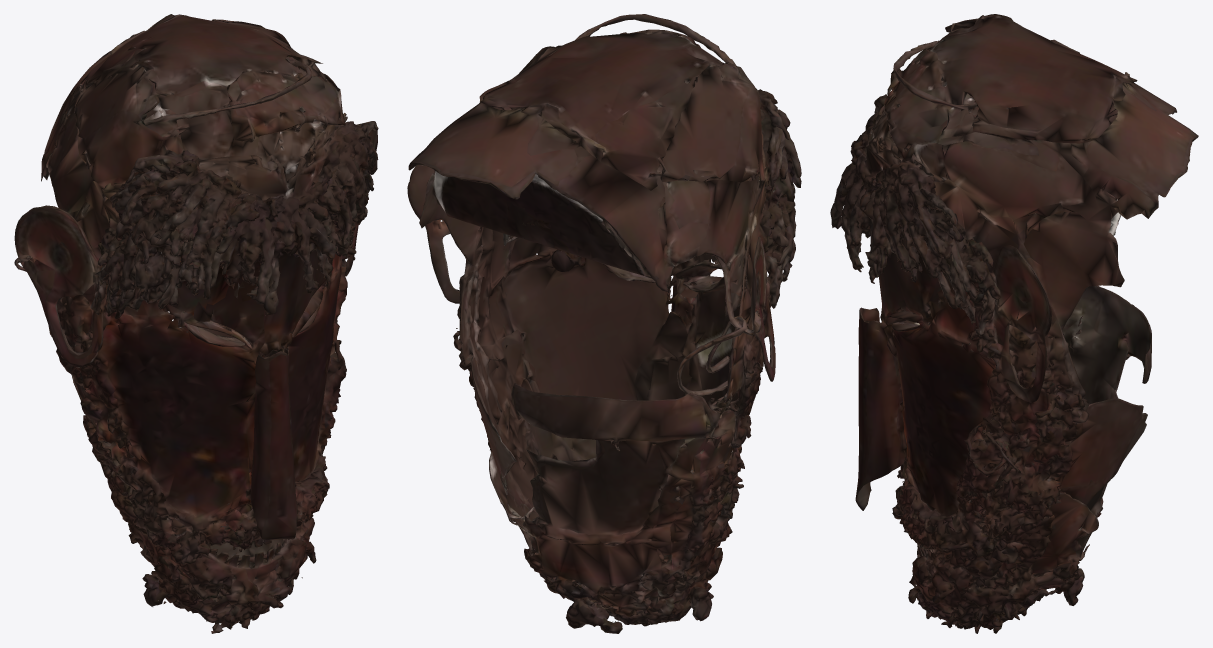
Rendered from preview.glb.
The picture shows the model from 3 angles, left to right: view 1: azimuth 30°, elevation 25°; view 2: azimuth 150°, elevation 25°; view 3: azimuth 270°, elevation 25°; orthographic projection. The views are drawn at different scales.
Visible parts, largest first — view 1: ADVIMG_1978_412_729_AustralianMask_RC1_13M_001_n3d; view 2: ADVIMG_1978_412_729_AustralianMask_RC1_13M_001_n3d; view 3: ADVIMG_1978_412_729_AustralianMask_RC1_13M_001_n3d.
Boxes of the visible parts, x1,y1,x2,y2 form: ADVIMG_1978_412_729_AustralianMask_RC1_13M_001_n3d: (14, 14, 378, 633); ADVIMG_1978_412_729_AustralianMask_RC1_13M_001_n3d: (407, 14, 801, 633); ADVIMG_1978_412_729_AustralianMask_RC1_13M_001_n3d: (830, 14, 1198, 633).
Size of the model in its own units: 0.2794 by 0.4257 by 0.249.
1 material, 1 textured.
